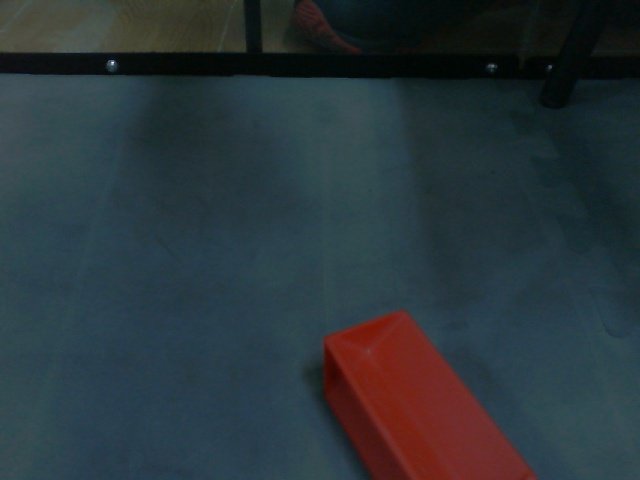RedSample: (319, 306, 545, 480)
